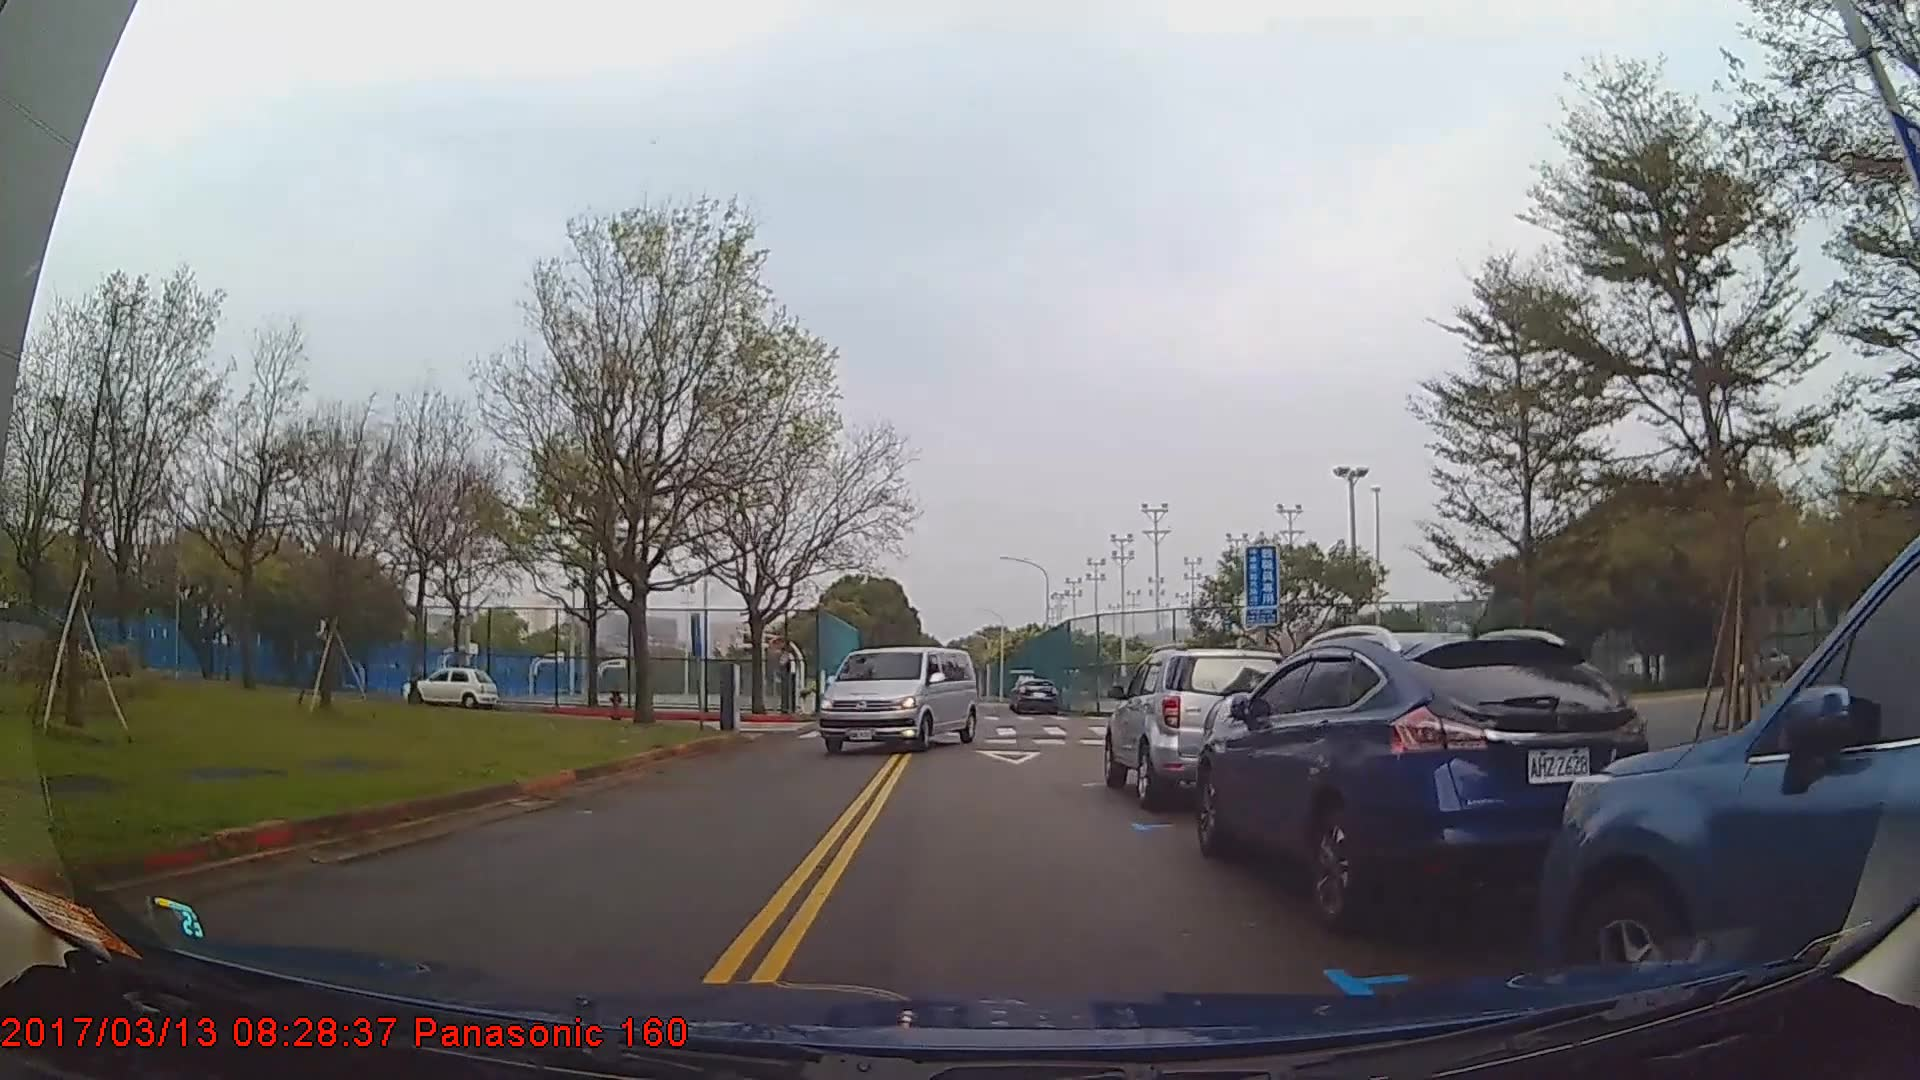vehicle: (1547, 560, 1919, 1022), (1196, 628, 1655, 936), (1102, 644, 1295, 806), (819, 644, 980, 754), (407, 665, 500, 709), (1015, 676, 1062, 717)
